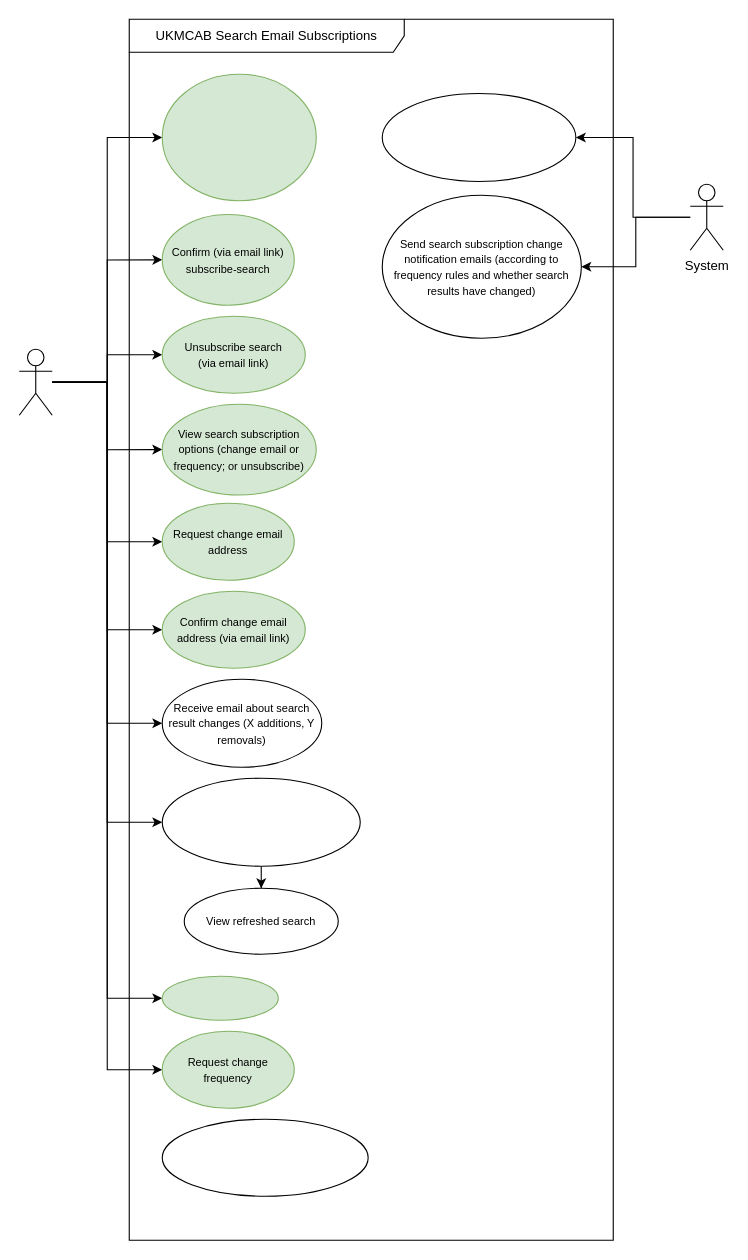
Some shapes in this 748 by 1260 pixel diagram are drawn without their labels. The shapes that lost their labels are listed below. From the top down, each one's centre as x and y in pixels, then its label:
At (238,137): "Request subscribe-search (inputs: email address, frequency, search filters)".
At (478,137): "Monitor all search subscriptions".
At (35,381): "User".
At (260,821): "View a list of CABs that have been added or removed to/from a search".
At (219,997): "Unsubscribe all".
At (264,1157): "List subscriptions by email address".
